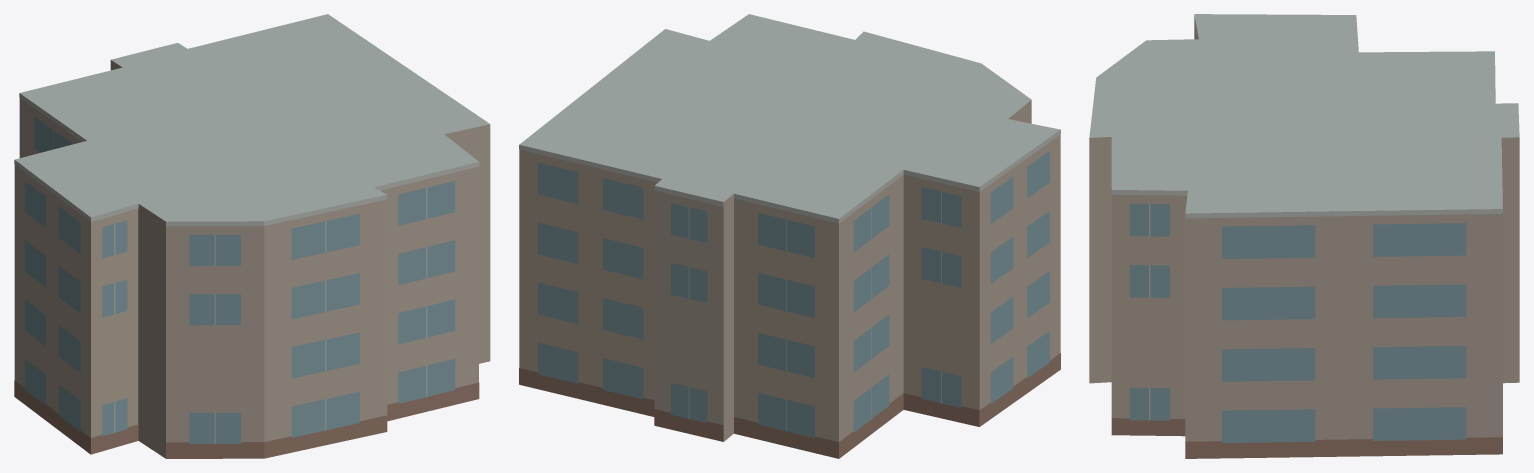
The model's file is residential-b5a171d5-a7e8-40a4-8ea9-d1eb9efdfc73.glb.
3 views of the same model, side by side, from view 1: azimuth 30°, elevation 25°; view 2: azimuth 150°, elevation 25°; view 3: azimuth 270°, elevation 25° (orthographic). The views are drawn at different scales.
Visible parts, largest first — view 1: residential-b5a171d5-a7e8-40a4-8ea9-d1eb9efdfc73.tmp; view 2: residential-b5a171d5-a7e8-40a4-8ea9-d1eb9efdfc73.tmp; view 3: residential-b5a171d5-a7e8-40a4-8ea9-d1eb9efdfc73.tmp.
Part boxes in pixels (<box>): residential-b5a171d5-a7e8-40a4-8ea9-d1eb9efdfc73.tmp: <box>14,14,490,458</box>; residential-b5a171d5-a7e8-40a4-8ea9-d1eb9efdfc73.tmp: <box>519,14,1060,458</box>; residential-b5a171d5-a7e8-40a4-8ea9-d1eb9efdfc73.tmp: <box>1089,14,1519,458</box>.
Bounding box in the file's own units: 21.28 × 12.2 × 19.4.
